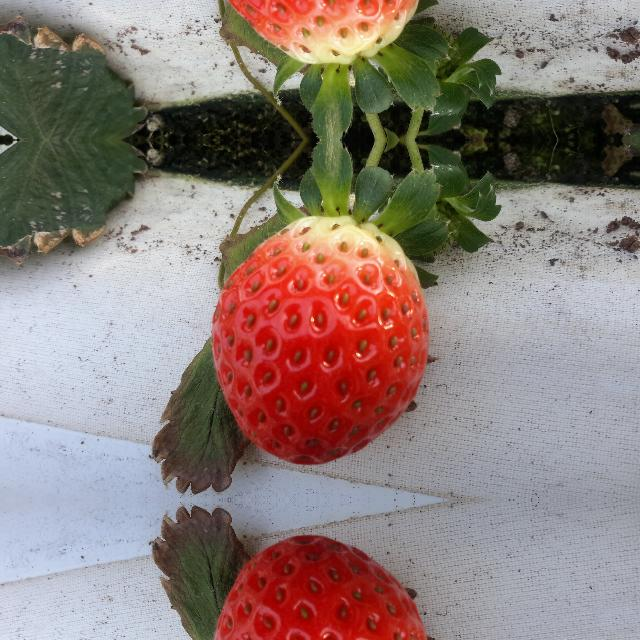Health_100: (212, 216, 428, 464), (212, 536, 428, 640), (212, 0, 428, 64)
